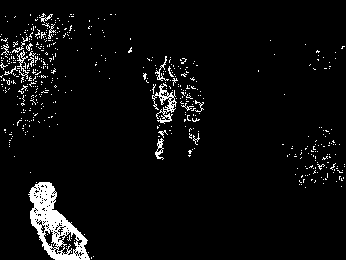person: (29, 176, 98, 260), (147, 79, 178, 164)
